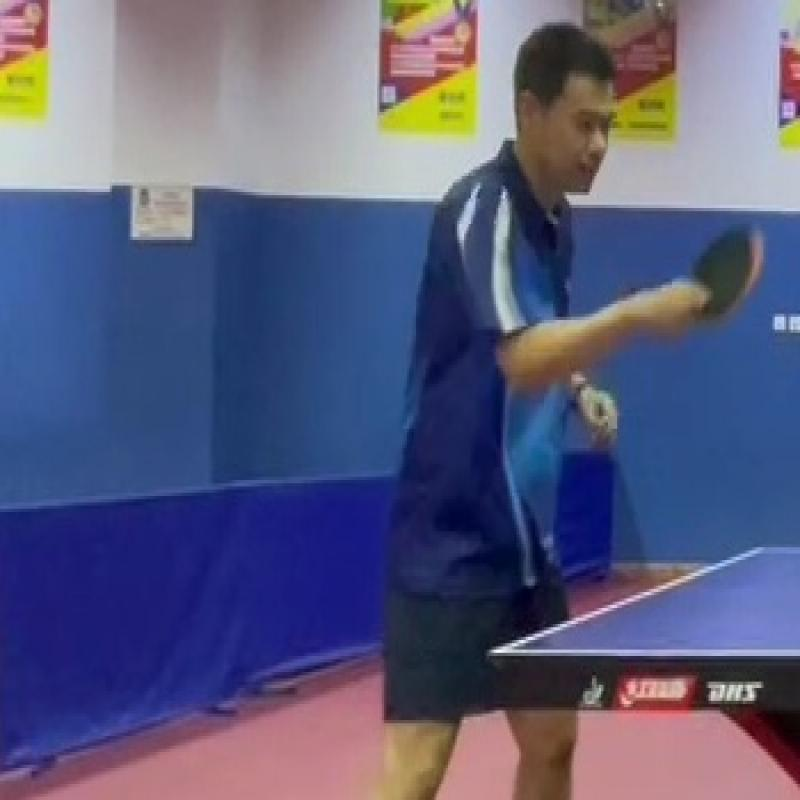bats: (664, 218, 769, 334)
